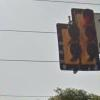Traffic light: (50, 7, 100, 79)
